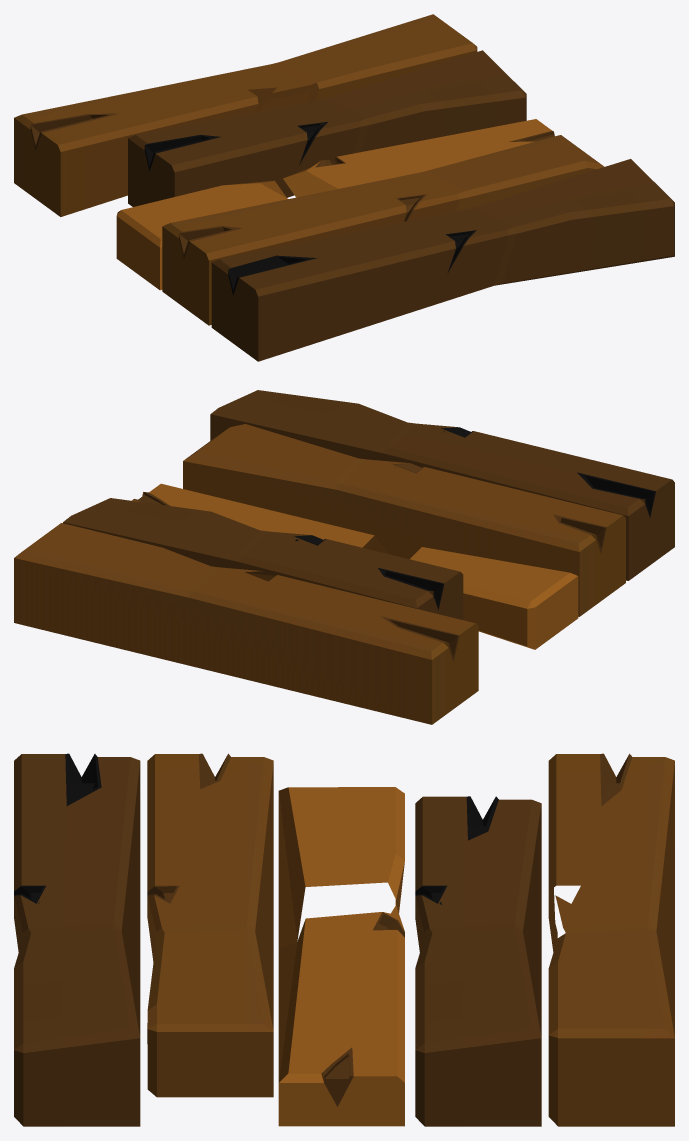
Rendered from PlataformaCai.glb.
3 renders of one model, top to bottom at view 1: azimuth 30°, elevation 25°; view 2: azimuth 150°, elevation 25°; view 3: azimuth 270°, elevation 25°, orthographic. The views are drawn at different scales.
Visible parts, largest first — view 1: PlataformaCai; view 2: PlataformaCai; view 3: PlataformaCai.
Part boxes in pixels (x1,y1,x2,y2): PlataformaCai: [14, 14, 674, 361]; PlataformaCai: [14, 390, 674, 724]; PlataformaCai: [14, 753, 674, 1126].
Size of the model in its own units: 1.96 by 0.313 by 1.97.
1 material, 1 textured.
